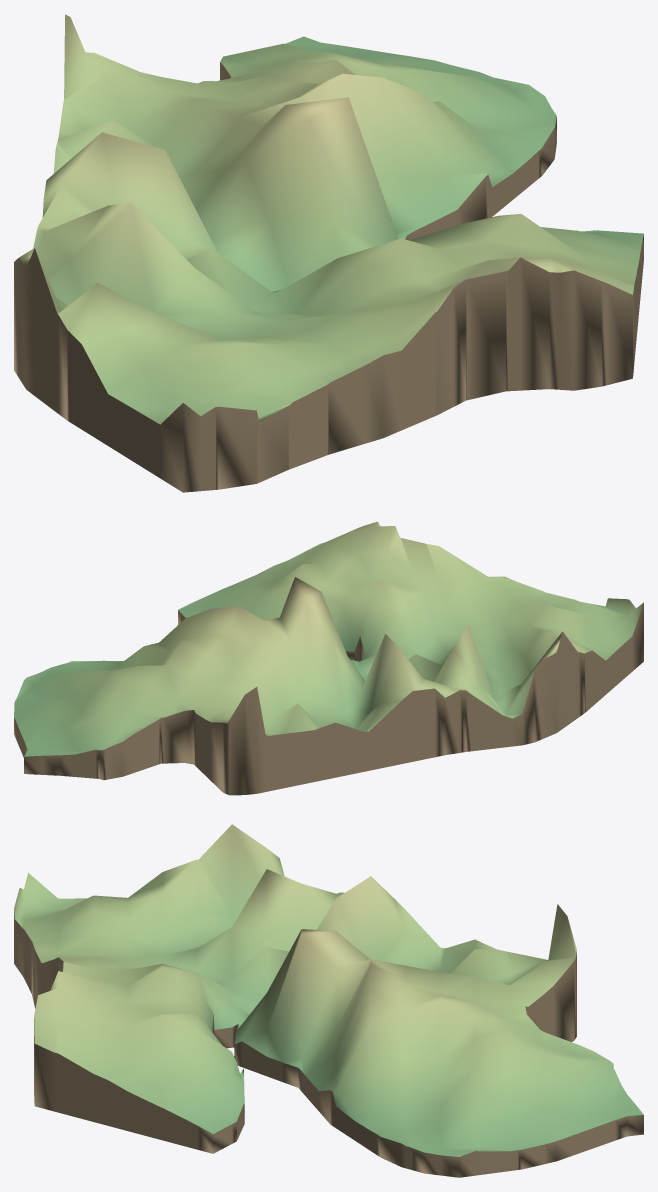
The model's file is DJI.glb.
3 renders of one model, top to bottom at view 1: azimuth 30°, elevation 25°; view 2: azimuth 150°, elevation 25°; view 3: azimuth 270°, elevation 25°, orthographic. The views are drawn at different scales.
Visible parts, largest first — view 1: DJI; view 2: DJI; view 3: DJI.
Boxes of the visible parts, box(x1,y1,x2,y2) form: DJI: box(14, 14, 643, 492); DJI: box(14, 521, 643, 795); DJI: box(14, 824, 643, 1177).
Size of the model in its own units: 1.32 by 0.338 by 1.45.
